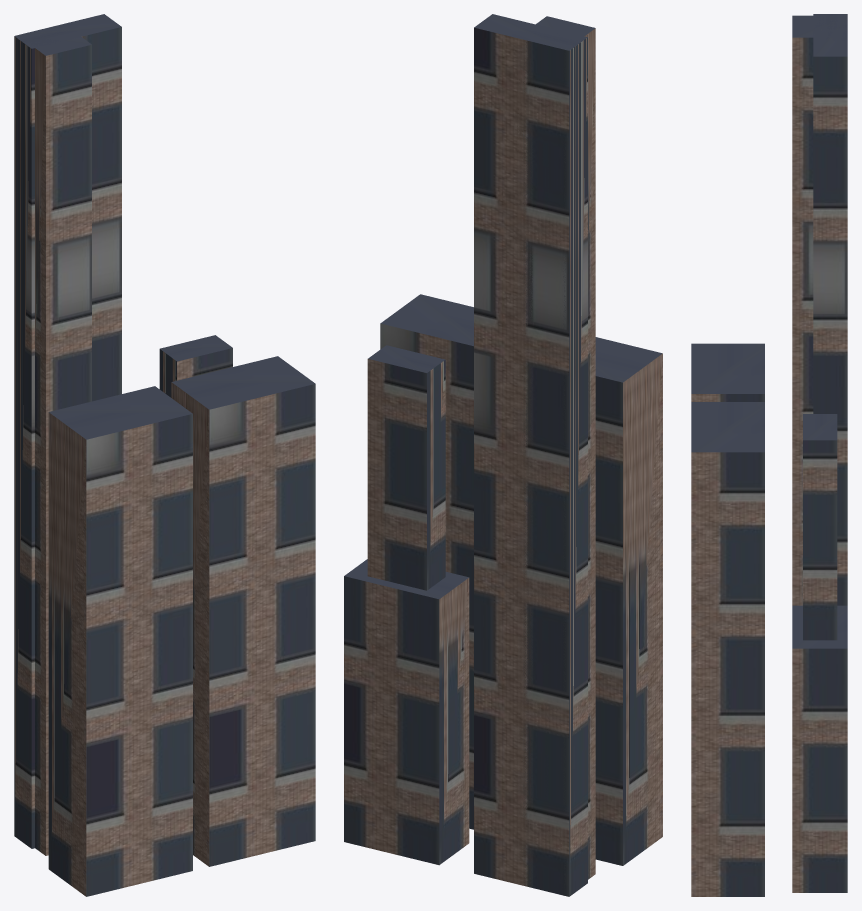
The model's file is block_01.obj.
3 renders of one model, left to right at view 1: azimuth 30°, elevation 25°; view 2: azimuth 150°, elevation 25°; view 3: azimuth 270°, elevation 25°, orthographic. The views are drawn at different scales.
Parts seen in each view (by area): view 1: b1, b3, b0, b2; view 2: b0, b2, b1, b3; view 3: b3, b0, b2, b1.
Part boxes in pixels (box(x1,y1,x2,y2)): b1: box(48, 386, 192, 896); b3: box(171, 356, 315, 866); b0: box(14, 14, 121, 855); b2: box(159, 335, 232, 397); b0: box(474, 14, 595, 896); b2: box(344, 345, 469, 865); b1: box(595, 337, 662, 865); b3: box(380, 294, 473, 829); b3: box(691, 402, 764, 896); b0: box(792, 14, 847, 605); b2: box(792, 414, 847, 892); b1: box(691, 343, 764, 401).
Bounding box in the file's own units: 4.2 × 14 × 2.55.
